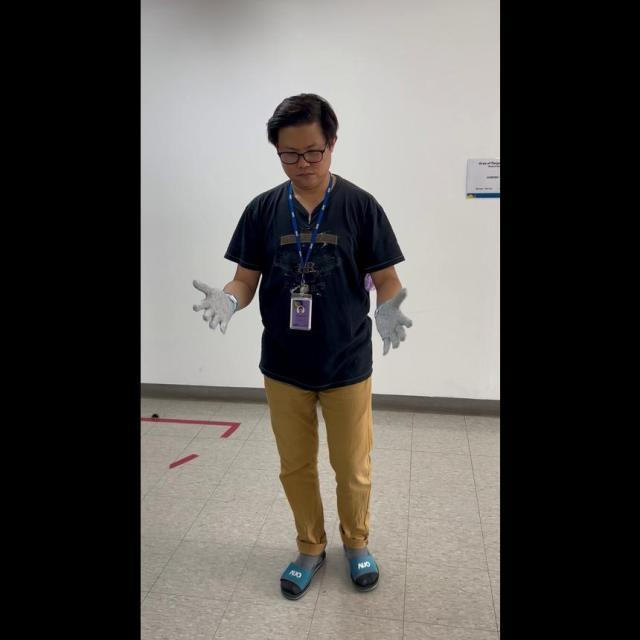gloved_hand: (191, 270, 238, 336), (368, 285, 412, 353)
